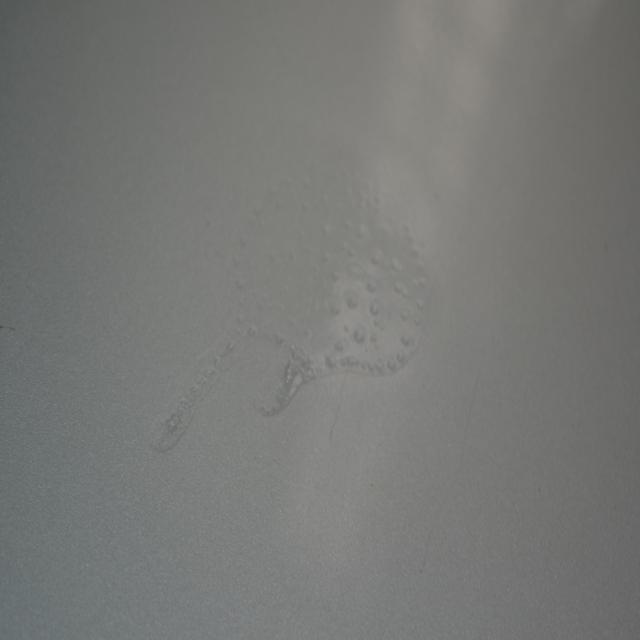runs: (147, 150, 440, 457)
